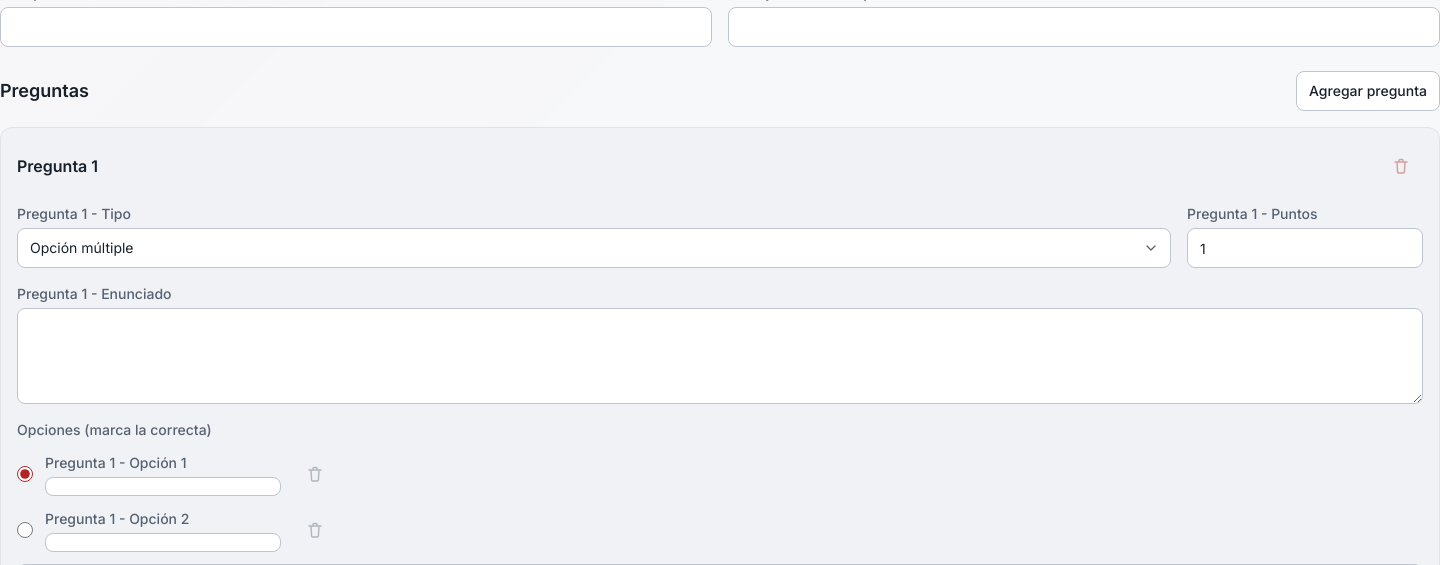
Test case: ExamForm › agrega y quita preguntas dinámicamente
The image size is (1440, 565).
Click the button "Agregar pregunta". click: (1368, 91)
box: [1296, 71, 1439, 111]
(page scrolled)
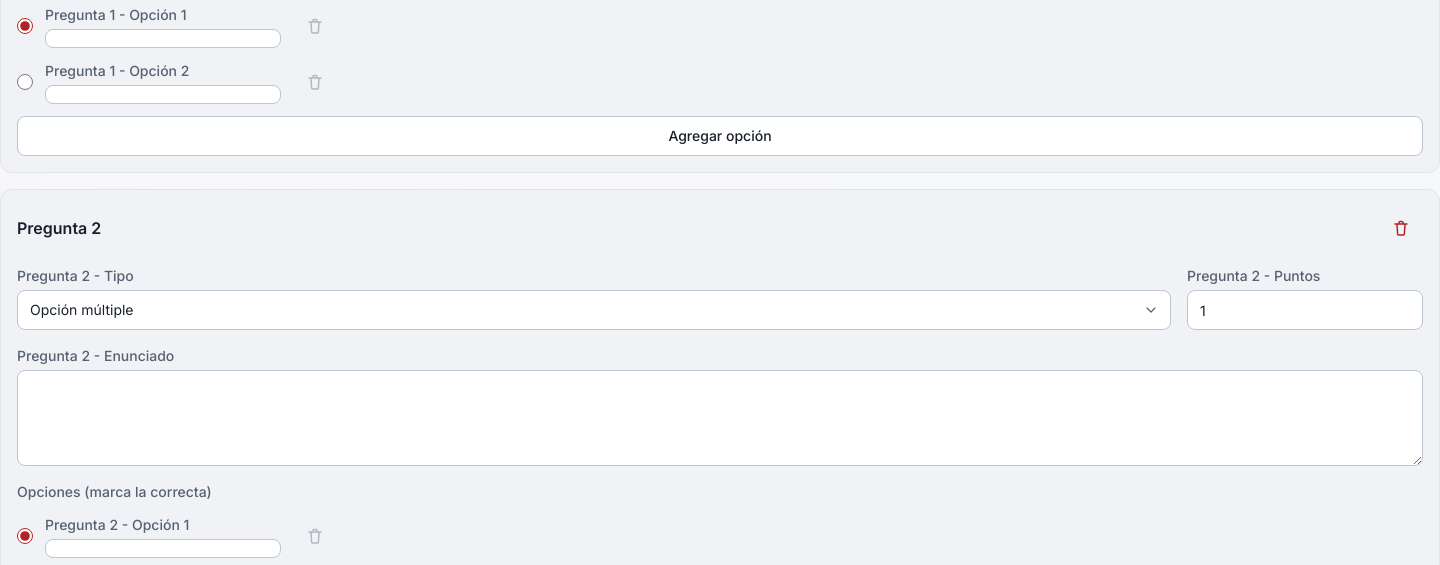
expect the text box labelled "Pregunta 2 - Enunciado" is shown: met, box [17, 370, 1423, 466]
Click the button named "Quitar Pregunta 2". click: (1401, 228)
box: [1379, 206, 1423, 250]
(page scrolled)
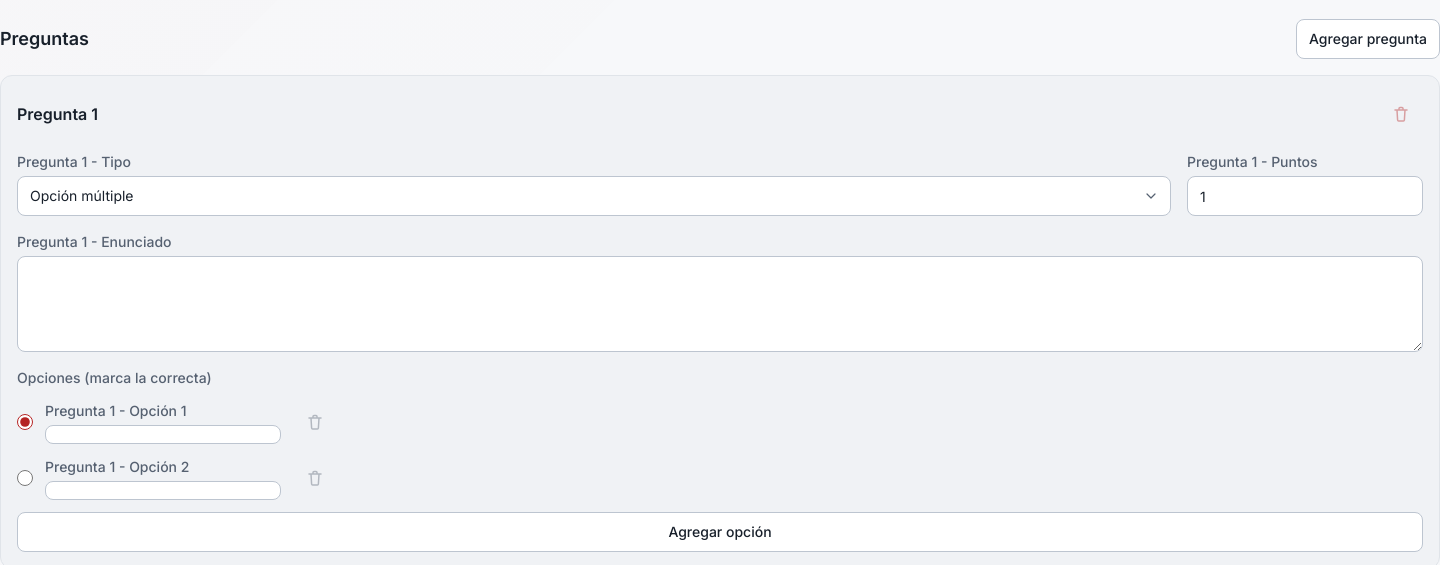
expect the label labelled "Pregunta 2 - Enunciado" is gone: met
